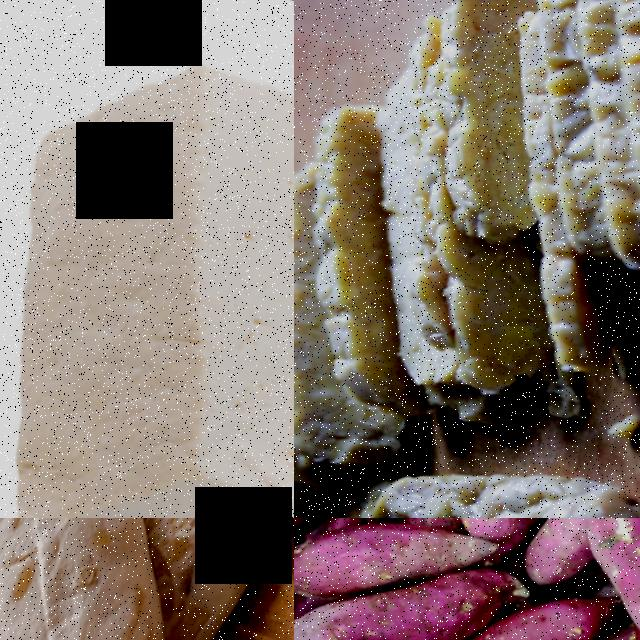sweet potato: (294, 518, 395, 611), (570, 518, 640, 640)
tempeh: (339, 0, 617, 247), (294, 208, 454, 414), (407, 247, 593, 415), (356, 426, 640, 518), (58, 518, 294, 604), (0, 518, 153, 640)
tofu: (0, 18, 294, 518)
